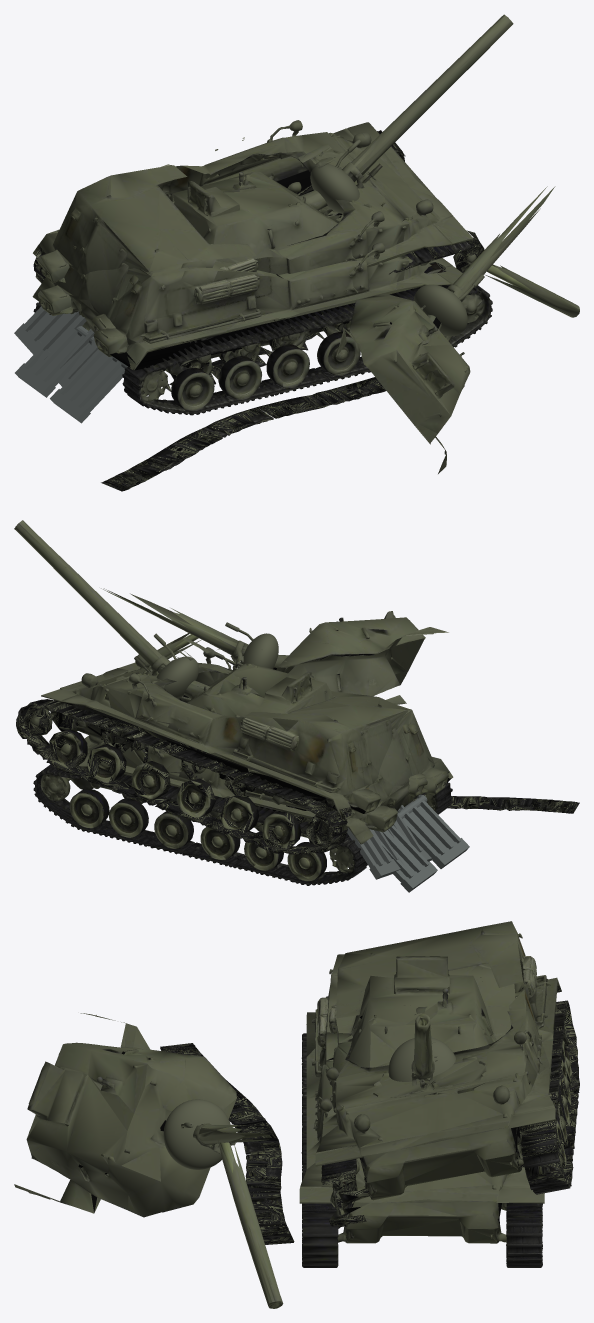
Rendered from spg_long_range.glb.
3 renders of one model, top to bottom at view 1: azimuth 30°, elevation 25°; view 2: azimuth 150°, elevation 25°; view 3: azimuth 270°, elevation 25°, orthographic. The views are drawn at different scales.
Visible parts, largest first — view 1: WRECK_hull_hull, hull_hull, hull_rubber, WRECK_turret_hull, turret_hull, WRECK_hull_rubber, turret_metal, WRECK_turret_metal; view 2: WRECK_hull_hull, WRECK_hull_rubber, hull_rubber, hull_hull, WRECK_turret_hull, turret_hull, turret_metal, WRECK_turret_metal; view 3: WRECK_hull_hull, WRECK_turret_hull, hull_hull, WRECK_hull_rubber, turret_hull, WRECK_turret_metal, hull_rubber, turret_metal.
Boxes of the visible parts, bbox=[...] form: WRECK_hull_hull: bbox=[14, 120, 472, 386]; hull_hull: bbox=[15, 182, 462, 423]; hull_rubber: bbox=[32, 285, 492, 415]; WRECK_turret_hull: bbox=[336, 294, 470, 473]; turret_hull: bbox=[169, 172, 342, 282]; WRECK_hull_rubber: bbox=[33, 130, 484, 491]; turret_metal: bbox=[310, 14, 513, 213]; WRECK_turret_metal: bbox=[413, 186, 579, 336]; WRECK_hull_hull: bbox=[41, 637, 432, 879]; WRECK_hull_rubber: bbox=[16, 695, 579, 854]; hull_rubber: bbox=[33, 764, 453, 885]; hull_hull: bbox=[71, 680, 469, 892]; WRECK_turret_hull: bbox=[273, 611, 448, 704]; turret_hull: bbox=[179, 663, 334, 731]; turret_metal: bbox=[14, 520, 198, 698]; WRECK_turret_metal: bbox=[101, 588, 278, 670]; WRECK_hull_hull: bbox=[315, 921, 559, 1200]; WRECK_turret_hull: bbox=[14, 1013, 236, 1217]; hull_hull: bbox=[299, 954, 544, 1243]; WRECK_hull_rubber: bbox=[160, 986, 579, 1244]; turret_hull: bbox=[326, 956, 507, 1067]; WRECK_turret_metal: bbox=[163, 1099, 283, 1308]; hull_rubber: bbox=[301, 1033, 542, 1267]; turret_metal: bbox=[388, 1014, 455, 1088].
Size of the model in its own units: 9.47 by 4.83 by 7.86.
Materials: 1 (1 with a texture image).
